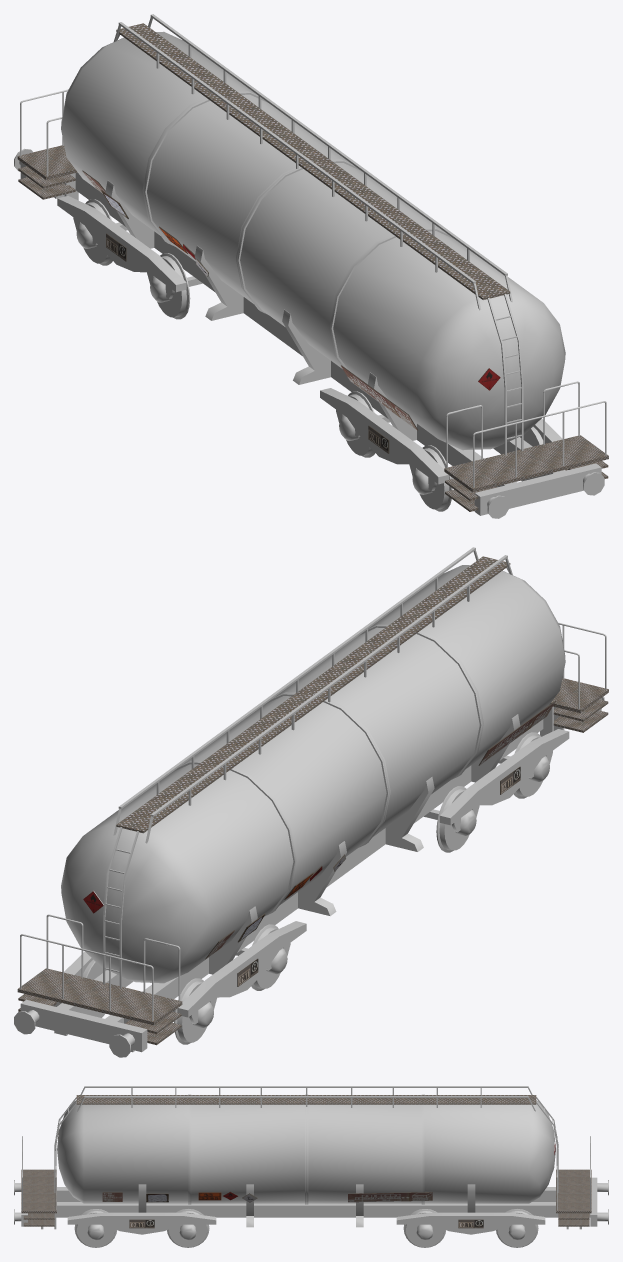
The model's file is train_liquid_lod01.fbx.
3 renders of one model, top to bottom at view 1: azimuth 30°, elevation 25°; view 2: azimuth 150°, elevation 25°; view 3: azimuth 270°, elevation 25°, orthographic. The views are drawn at different scales.
Parts seen in each view (by area): view 1: Mesh Object_ncl1_1, Mesh Object_ncl1_4, Mesh Object_ncl1_5, Mesh Object_ncl1_3, Mesh Object_ncl1_2; view 2: Mesh Object_ncl1_1, Mesh Object_ncl1_4, Mesh Object_ncl1_3, Mesh Object_ncl1_5, Mesh Object_ncl1_2; view 3: Mesh Object_ncl1_1, Mesh Object_ncl1_4, Mesh Object_ncl1_3, Mesh Object_ncl1_5, Mesh Object_ncl1_2.
Part boxes in pixels (<box>): Mesh Object_ncl1_1: <box>61,31,565,450</box>; Mesh Object_ncl1_4: <box>17,14,608,511</box>; Mesh Object_ncl1_5: <box>57,196,562,511</box>; Mesh Object_ncl1_3: <box>14,148,604,518</box>; Mesh Object_ncl1_2: <box>82,170,500,430</box>; Mesh Object_ncl1_1: <box>61,565,565,983</box>; Mesh Object_ncl1_4: <box>17,547,608,1045</box>; Mesh Object_ncl1_3: <box>14,696,604,1057</box>; Mesh Object_ncl1_5: <box>64,729,569,1044</box>; Mesh Object_ncl1_2: <box>205,700,555,959</box>; Mesh Object_ncl1_1: <box>57,1094,555,1204</box>; Mesh Object_ncl1_4: <box>21,1086,591,1226</box>; Mesh Object_ncl1_3: <box>14,1177,608,1229</box>; Mesh Object_ncl1_5: <box>67,1209,545,1247</box>; Mesh Object_ncl1_2: <box>58,1129,432,1202</box>.
Bounding box in the file's own units: 2.51 × 3.58 × 13.56.
